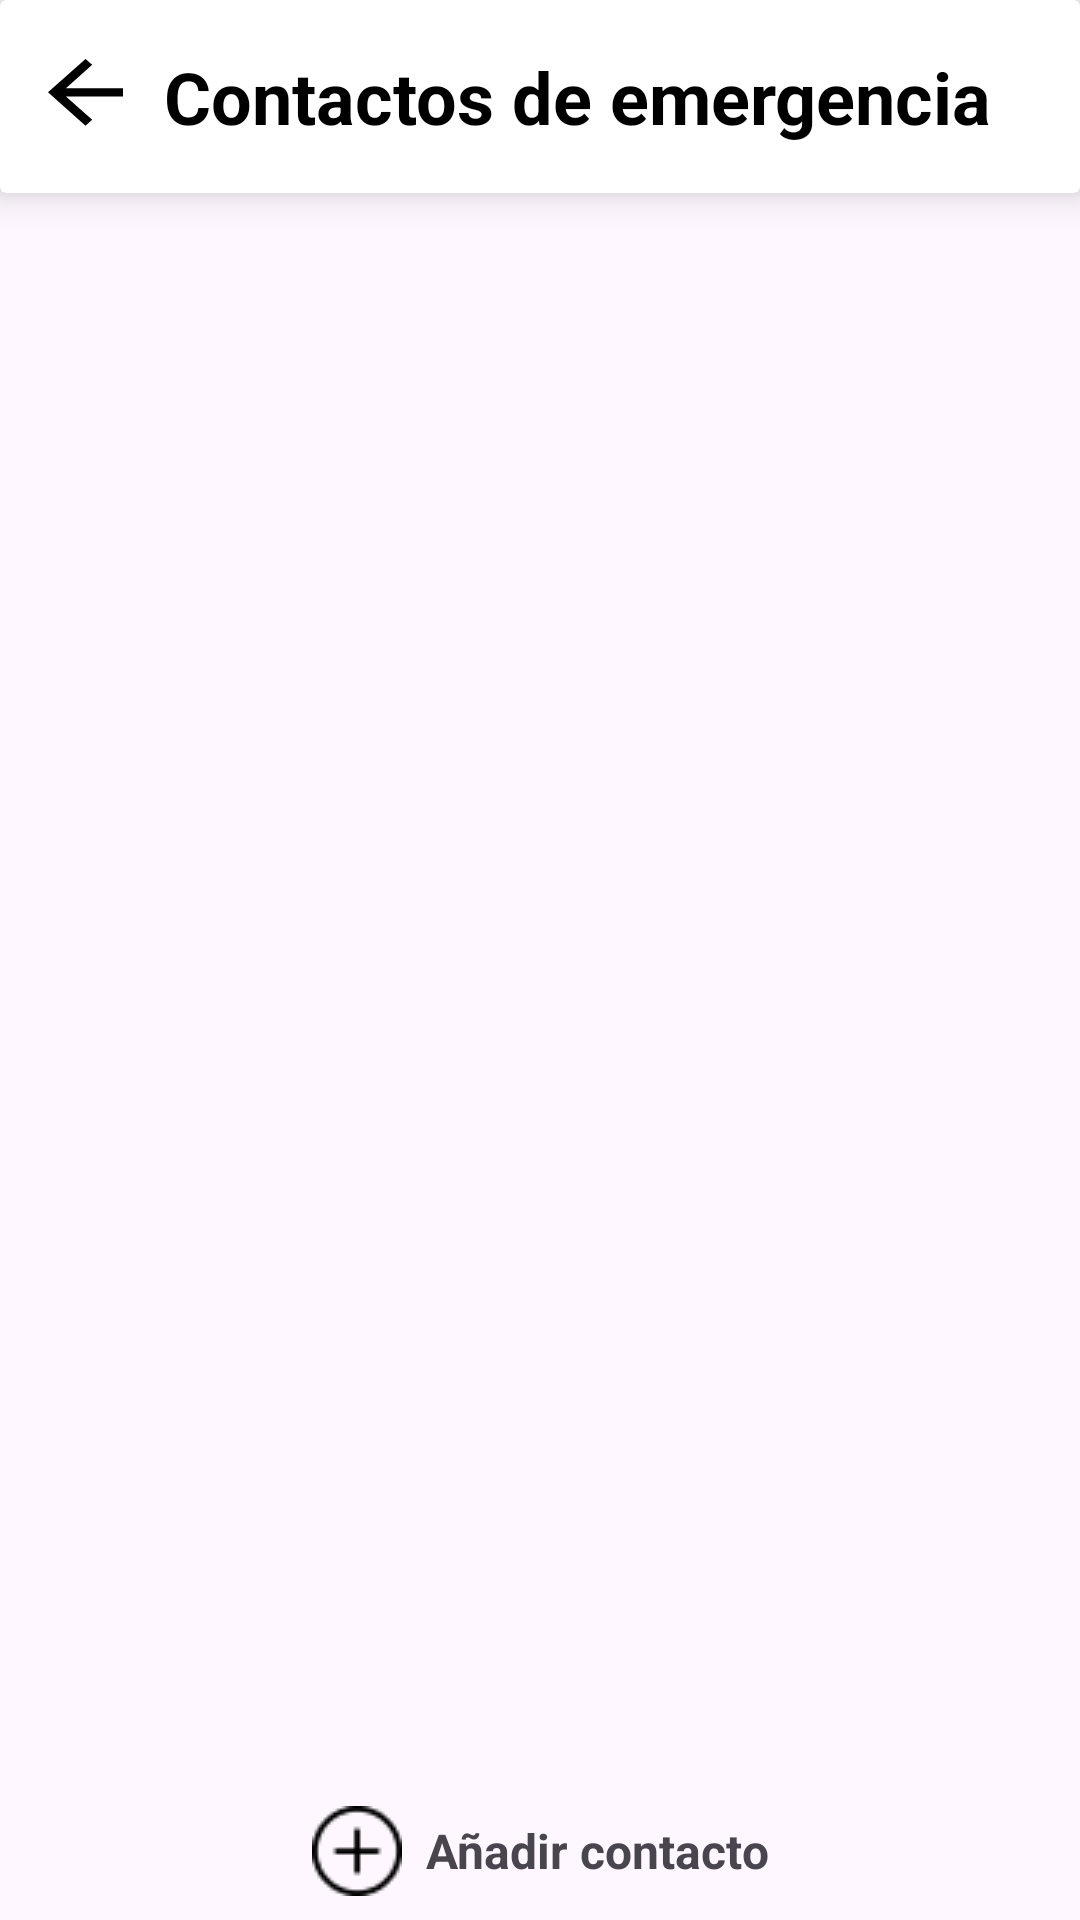

Where to tap for icons on this 1080*1920 app screen, as [x,y]:
Retroceder: [85,92]
